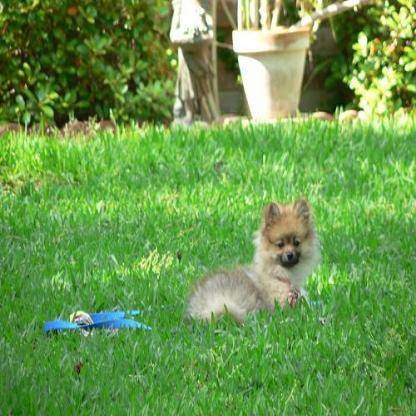Pomeranian: (184, 199, 321, 319)
